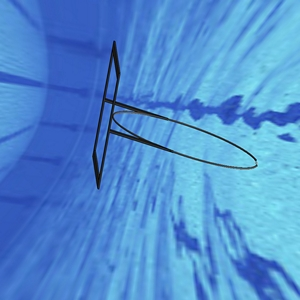circle: (87, 36, 259, 190)
